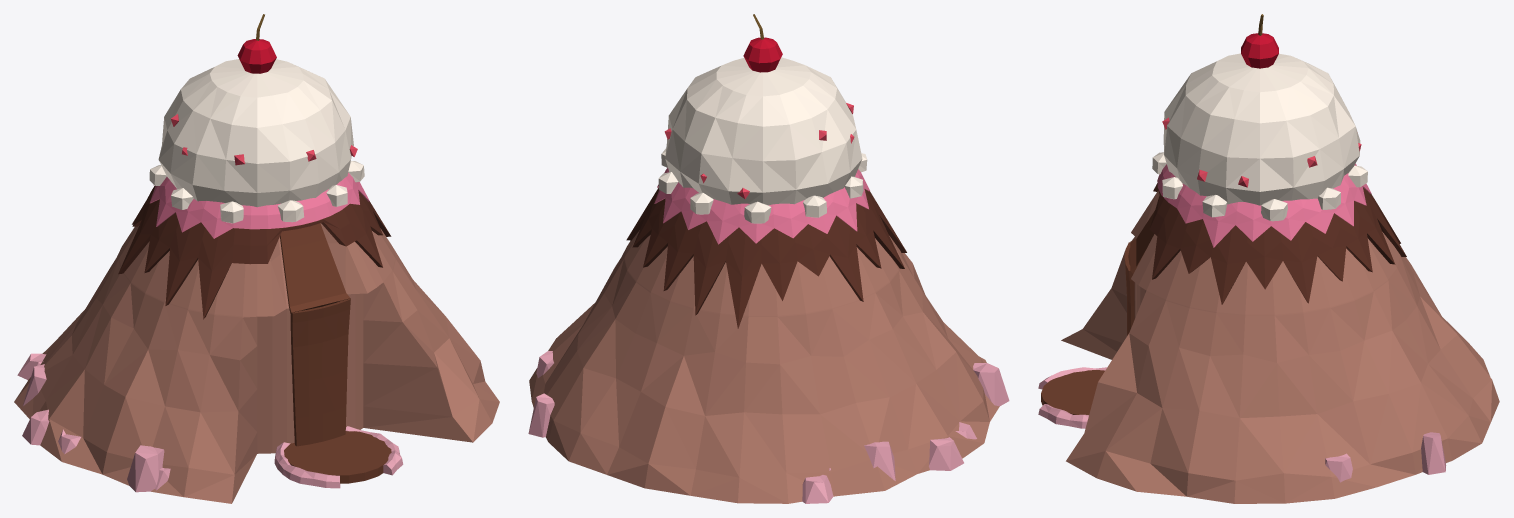
The model's file is CV3_IceCreamMountain_M.fbx.
3 views of the same model, side by side, from view 1: azimuth 30°, elevation 25°; view 2: azimuth 150°, elevation 25°; view 3: azimuth 270°, elevation 25° (orthographic).
Visible parts, largest first — view 1: CV3_IceCreamMountain_M_Base, CV3_IceCreamMountain_M_Scoop, CV3_IceCreamMountain_M_Fudge, CV3_IceCreamMountain_M_Waterfall, CV3_IceCreamMountain_M_Sauce, CV3_IceCreamMountain_M_River, CV3_IceCreamMountain_M_Pool, CV3_IceCreamMountain_M_Rocks, CV3_IceCreamMountain_M_PoolLip, CV3_IceCreamMountain_M_Cherry; view 2: CV3_IceCreamMountain_M_Base, CV3_IceCreamMountain_M_Scoop, CV3_IceCreamMountain_M_Fudge, CV3_IceCreamMountain_M_Sauce, CV3_IceCreamMountain_M_Rocks, CV3_IceCreamMountain_M_Cherry; view 3: CV3_IceCreamMountain_M_Base, CV3_IceCreamMountain_M_Scoop, CV3_IceCreamMountain_M_Fudge, CV3_IceCreamMountain_M_Sauce, CV3_IceCreamMountain_M_Pool, CV3_IceCreamMountain_M_Rocks, CV3_IceCreamMountain_M_Cherry, CV3_IceCreamMountain_M_PoolLip, CV3_IceCreamMountain_M_River, CV3_IceCreamMountain_M_Waterfall.
Boxes of the visible parts, <box> form: CV3_IceCreamMountain_M_Base: <box>14,223,499,503</box>; CV3_IceCreamMountain_M_Scoop: <box>149,59,364,223</box>; CV3_IceCreamMountain_M_Fudge: <box>118,185,391,319</box>; CV3_IceCreamMountain_M_Waterfall: <box>290,298,350,446</box>; CV3_IceCreamMountain_M_Sauce: <box>150,172,369,238</box>; CV3_IceCreamMountain_M_River: <box>280,223,350,314</box>; CV3_IceCreamMountain_M_Pool: <box>284,431,391,483</box>; CV3_IceCreamMountain_M_Rocks: <box>17,353,170,492</box>; CV3_IceCreamMountain_M_PoolLip: <box>274,426,403,488</box>; CV3_IceCreamMountain_M_Cherry: <box>237,39,276,73</box>; CV3_IceCreamMountain_M_Base: <box>529,230,999,503</box>; CV3_IceCreamMountain_M_Scoop: <box>658,57,867,223</box>; CV3_IceCreamMountain_M_Fudge: <box>626,187,906,328</box>; CV3_IceCreamMountain_M_Sauce: <box>654,167,869,244</box>; CV3_IceCreamMountain_M_Rocks: <box>528,351,1009,503</box>; CV3_IceCreamMountain_M_Cherry: <box>743,37,782,72</box>; CV3_IceCreamMountain_M_Base: <box>1061,190,1499,503</box>; CV3_IceCreamMountain_M_Scoop: <box>1152,53,1367,221</box>; CV3_IceCreamMountain_M_Fudge: <box>1149,183,1406,304</box>; CV3_IceCreamMountain_M_Sauce: <box>1157,163,1371,247</box>; CV3_IceCreamMountain_M_Pool: <box>1041,370,1104,414</box>; CV3_IceCreamMountain_M_Rocks: <box>1325,432,1446,482</box>; CV3_IceCreamMountain_M_Cherry: <box>1241,33,1278,68</box>; CV3_IceCreamMountain_M_PoolLip: <box>1038,367,1106,428</box>; CV3_IceCreamMountain_M_River: <box>1130,211,1154,273</box>; CV3_IceCreamMountain_M_Waterfall: <box>1124,242,1134,335</box>.
Bounding box in the file's own units: 68.81 × 60.31 × 64.48.
